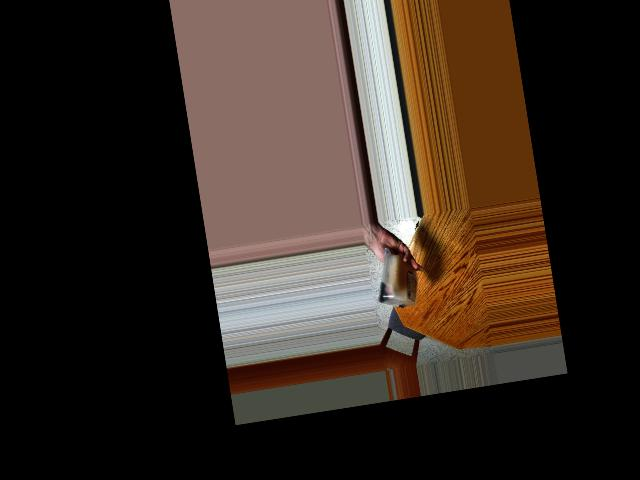cheese: (372, 249, 424, 313)
